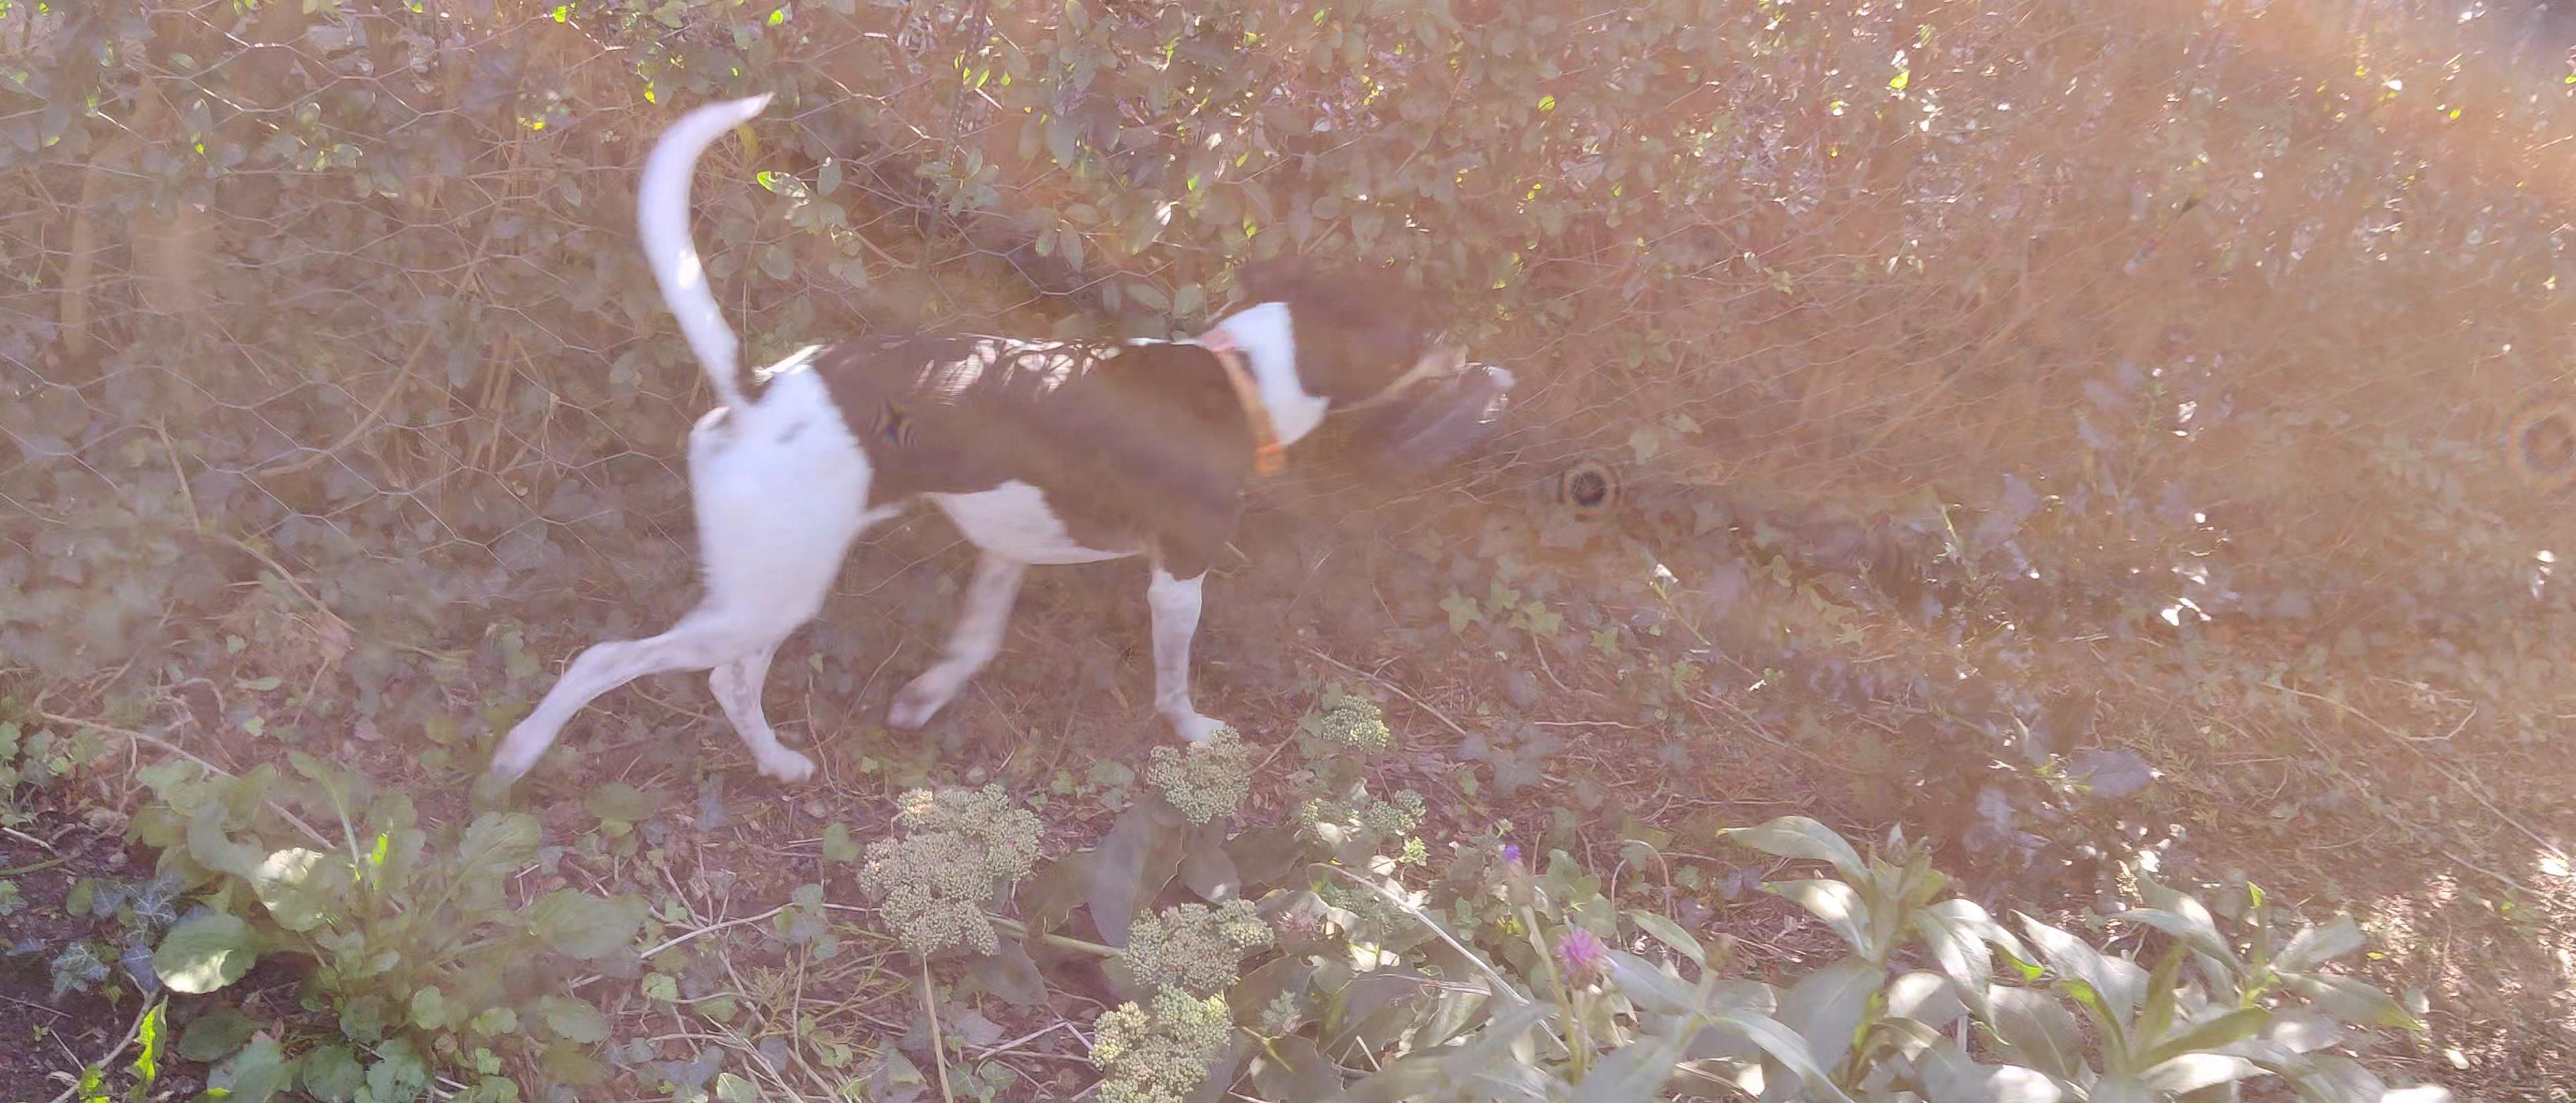Dog: (476, 84, 1469, 804)
